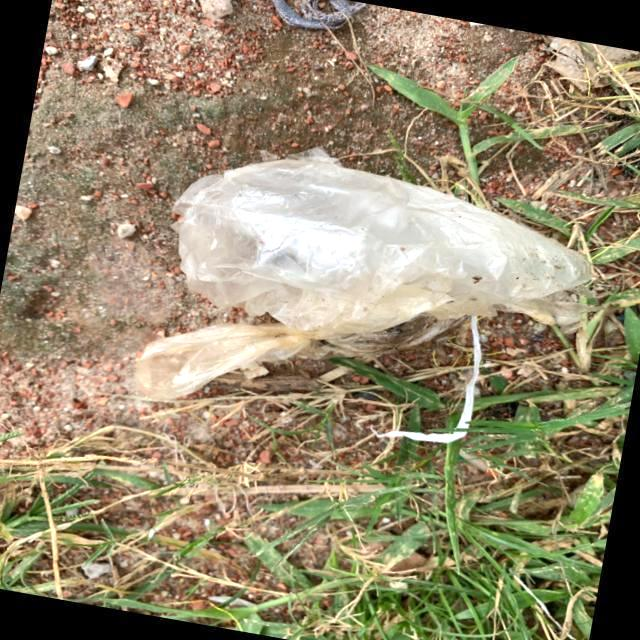polythene: (104, 113, 611, 488)
